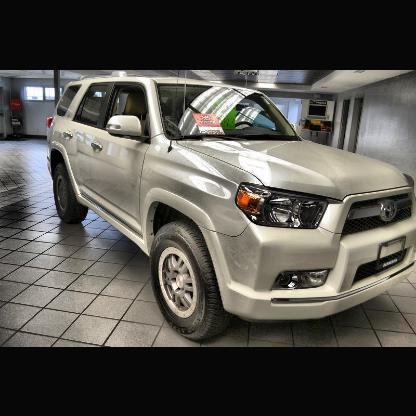Toyota 4Runner SUV 2012: (48, 71, 416, 344)
